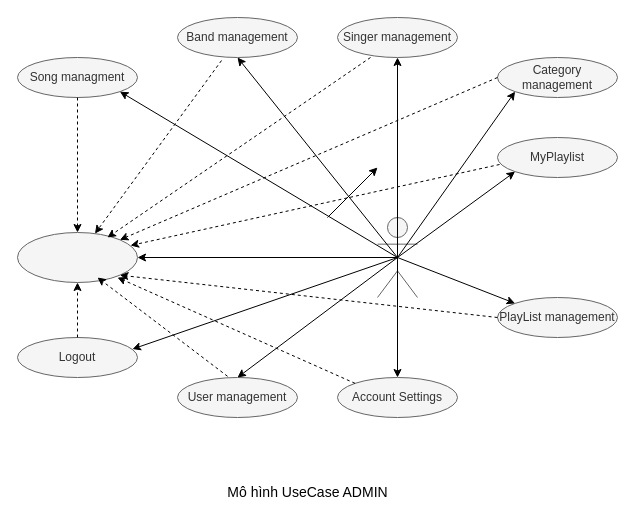
Some shapes in this 635 by 525 pixel diagram are drawn without their labels. Each missing label, with the centre of its shape:
"ADMIN" goes at (397,257).
"Login" goes at (77,257).
